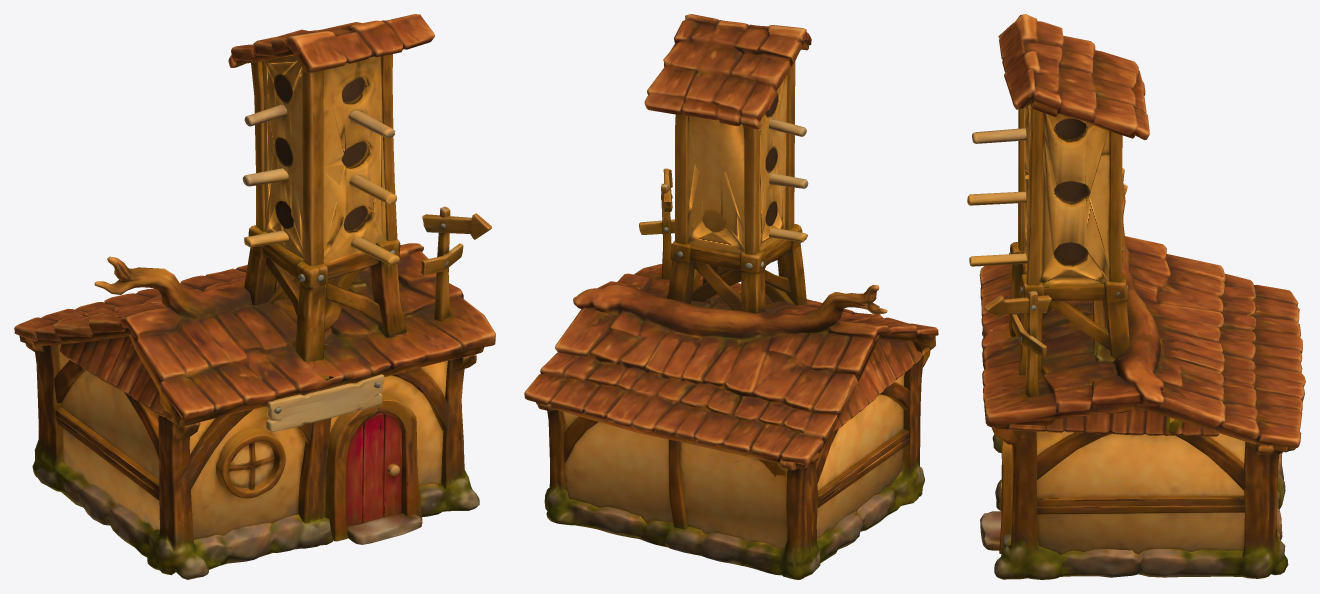
Rendered from post-office.glb.
The picture shows the model from 3 angles, left to right: view 1: azimuth 30°, elevation 25°; view 2: azimuth 150°, elevation 25°; view 3: azimuth 270°, elevation 25°; orthographic projection. The views are drawn at different scales.
Parts seen in each view (by area): view 1: geometry_0; view 2: geometry_0; view 3: geometry_0.
Boxes of the visible parts, bbox=[...] form: geometry_0: bbox=[14, 14, 495, 579]; geometry_0: bbox=[524, 14, 938, 579]; geometry_0: bbox=[967, 14, 1305, 579].
Bounding box in the file's own units: 0.6787 × 0.9526 × 0.6021.
Materials: 1 (1 with a texture image).
